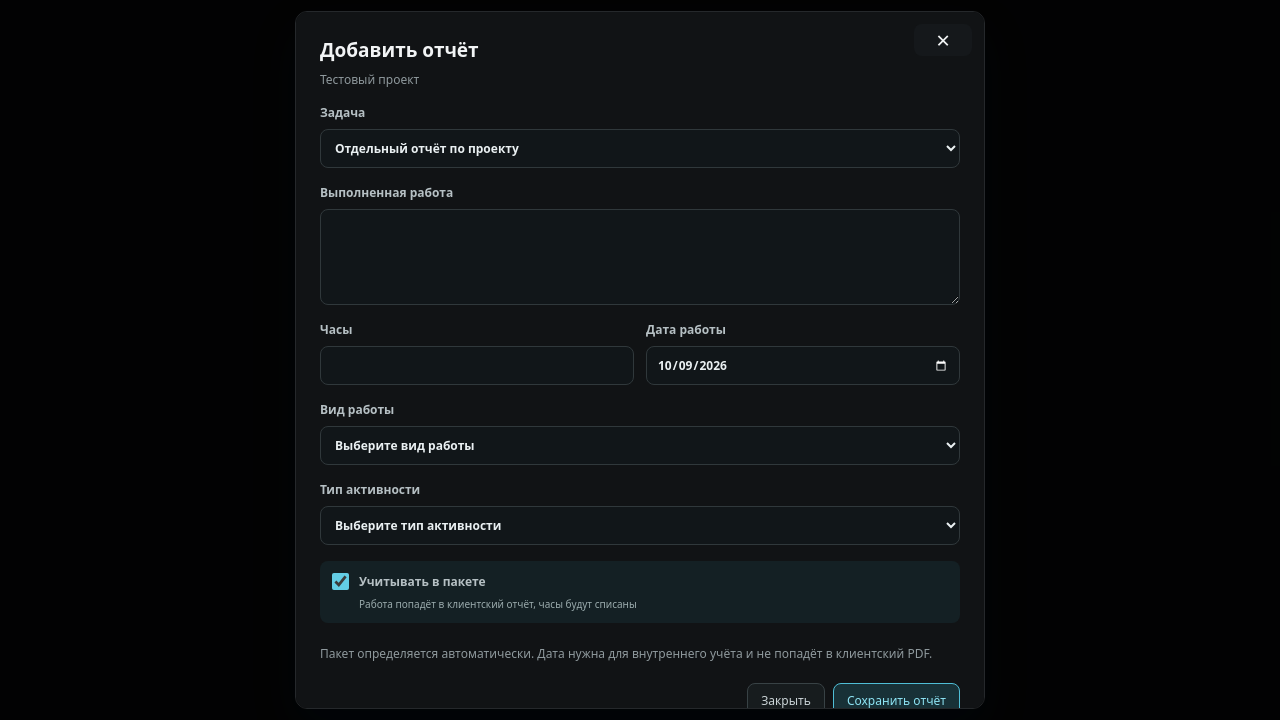
Scenario: report creation and editing › does not offer a second create when saving succeeded but balance refresh failed
The width and height of the screenshot is (1280, 720).
Type "Исправлено обновление задач" into the text box labelled "Выполненная работа" at [640, 257], box [320, 209, 960, 305]
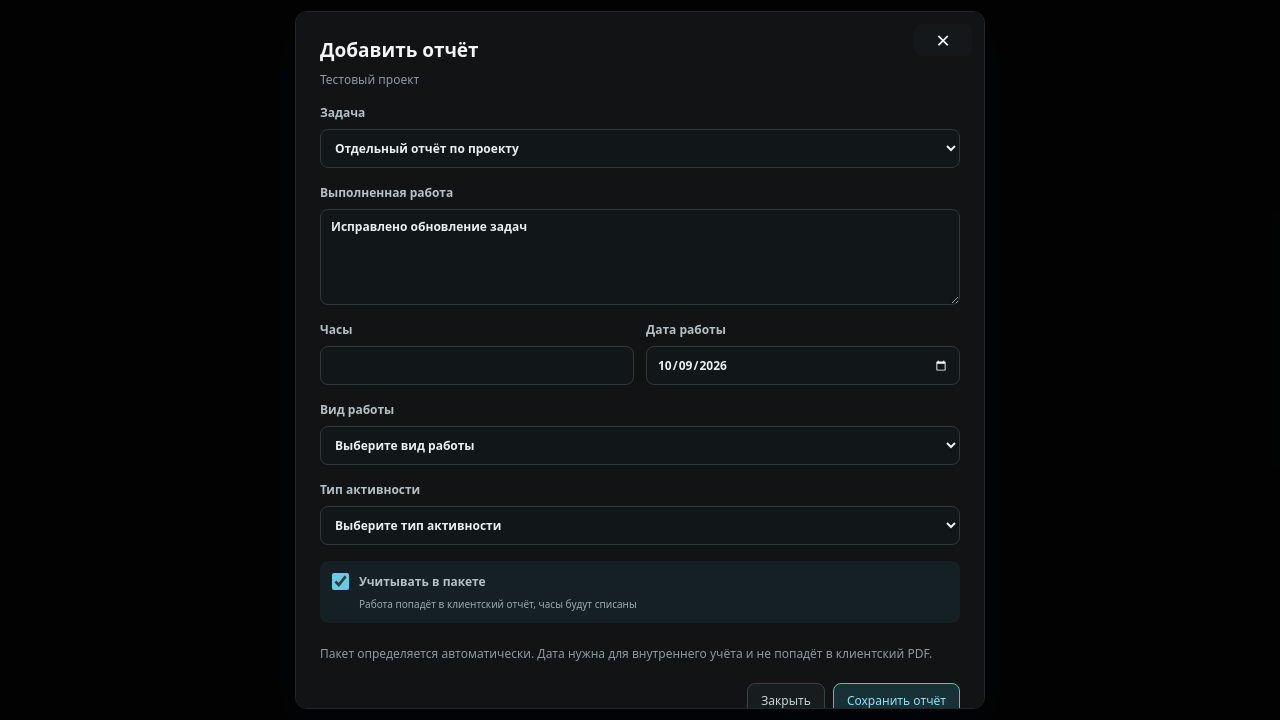
Type "2,5" into the field labelled "Часы" at [477, 366], box [320, 346, 634, 385]
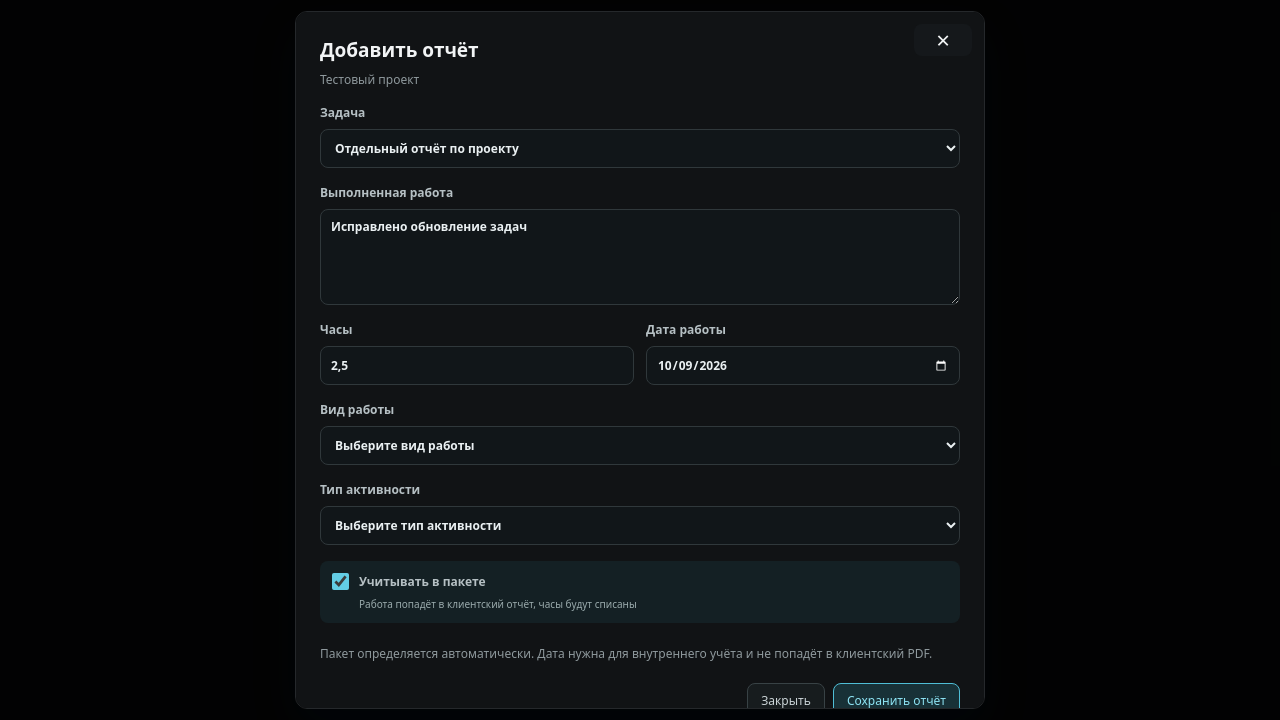
Select "Разработка" in the dropdown labelled "Вид работы" at [640, 446], box [320, 426, 960, 465]
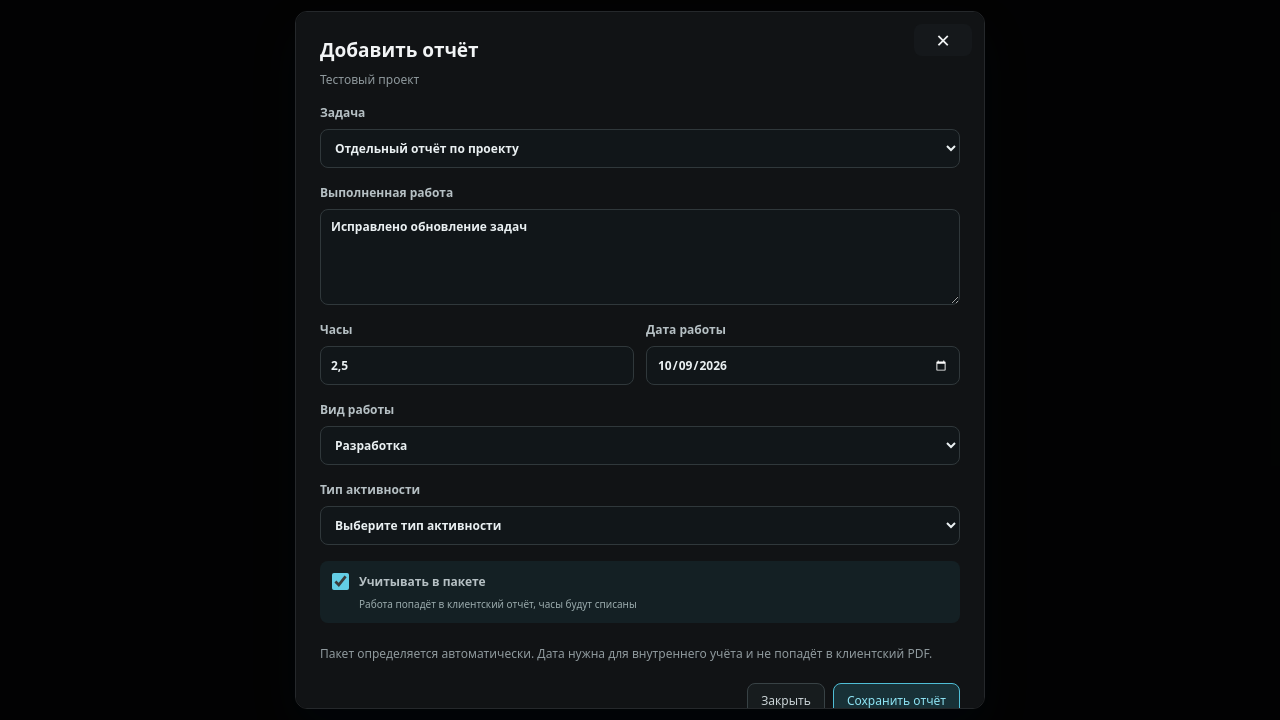
Select "Оплачиваемая клиентом задача" in the dropdown labelled "Тип активности" at [640, 526], box [320, 506, 960, 545]
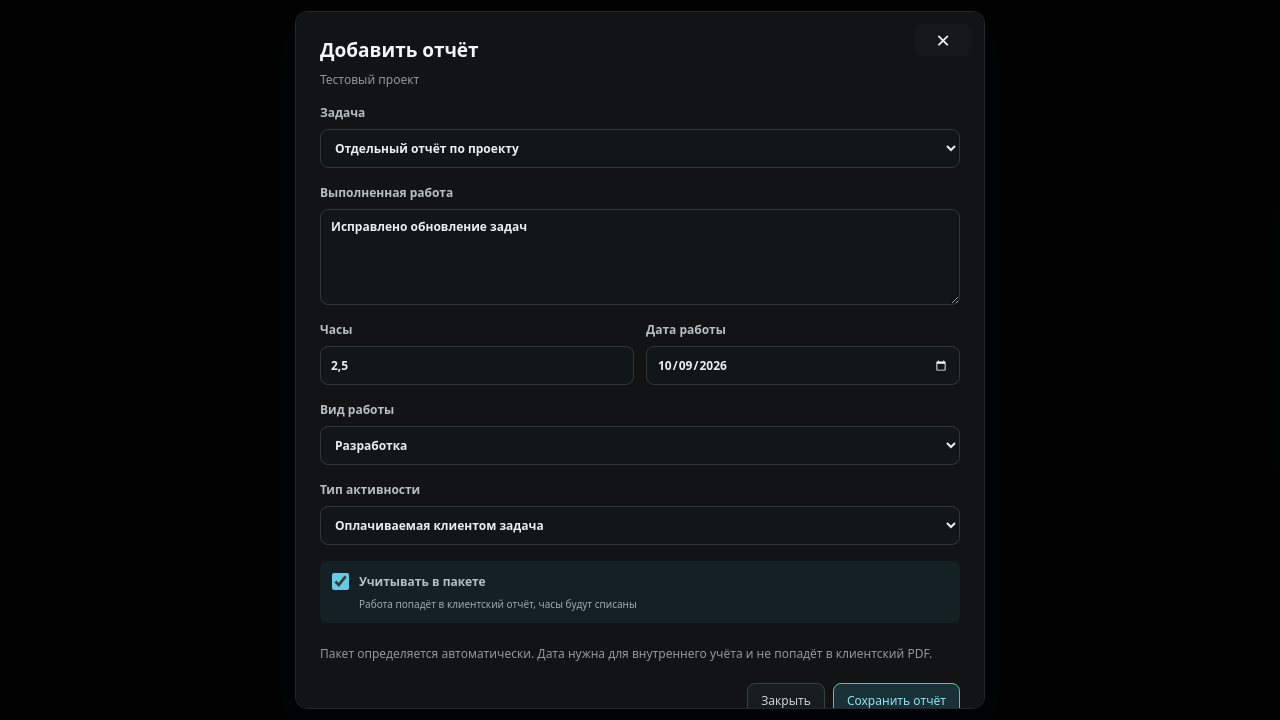
Click the button "Сохранить отчёт" at [896, 701], box [833, 683, 960, 719]
(page scrolled)
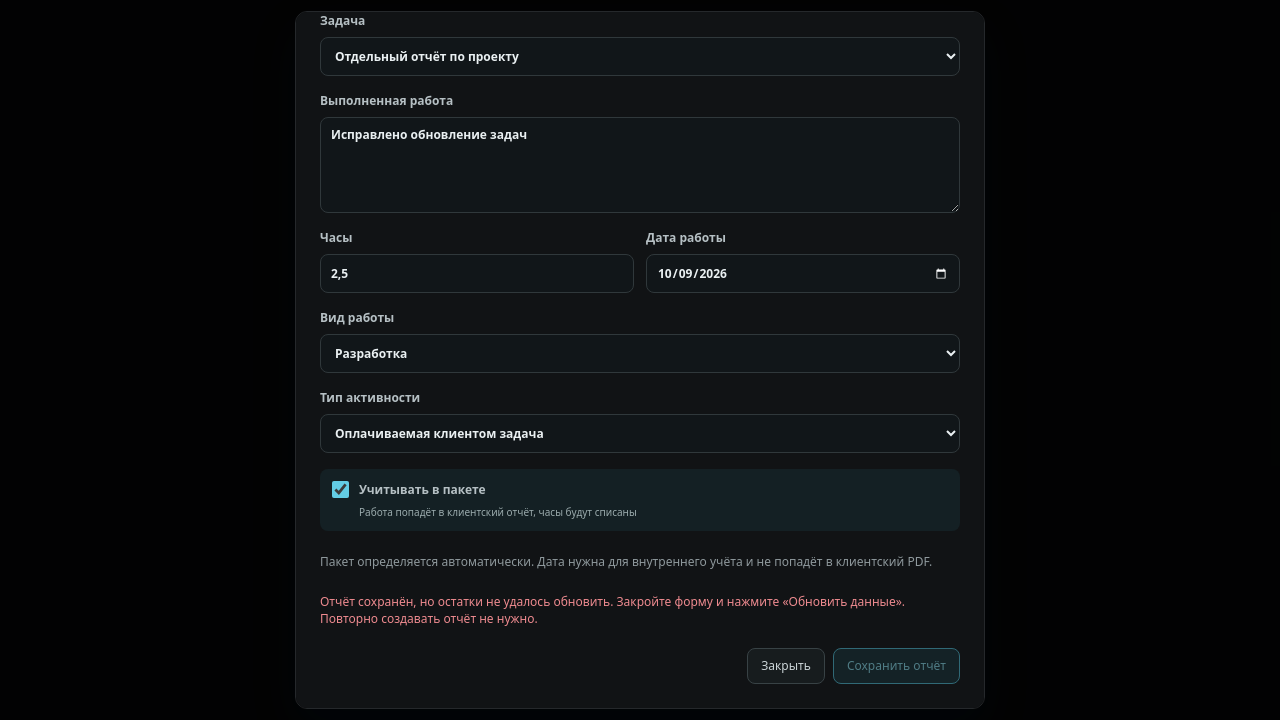
Expected: the message shows "Отчёт сохранён, но остатки не удалось обновить", [320, 593, 905, 627]
Expected: the button "Сохранить отчёт" is disabled, [833, 648, 960, 684]
